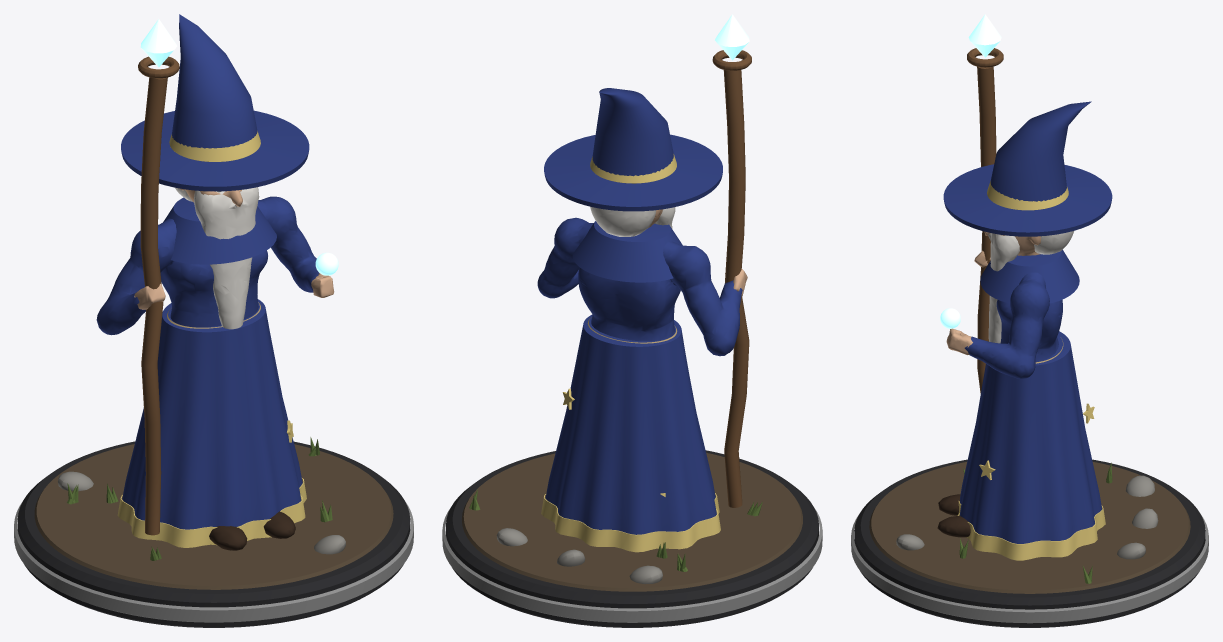
File: wizard.glb
3 views of the same model, side by side, from view 1: azimuth 30°, elevation 25°; view 2: azimuth 150°, elevation 25°; view 3: azimuth 270°, elevation 25° (orthographic). The views are drawn at different scales.
Visible parts, largest first — view 1: wizard; view 2: wizard; view 3: wizard.
Boxes of the visible parts, x1,y1,x2,y2 form: wizard: (14,14,413,627); wizard: (442,14,822,627); wizard: (851,14,1208,627).
Size of the model in its own units: 0.8557 by 1.34 by 0.8559.
